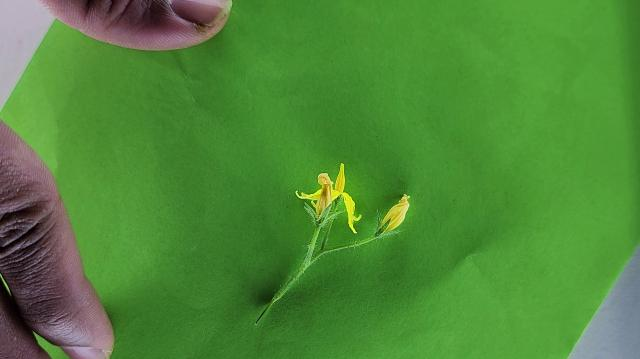Anthesis: (295, 163, 361, 235), (377, 194, 412, 236)
